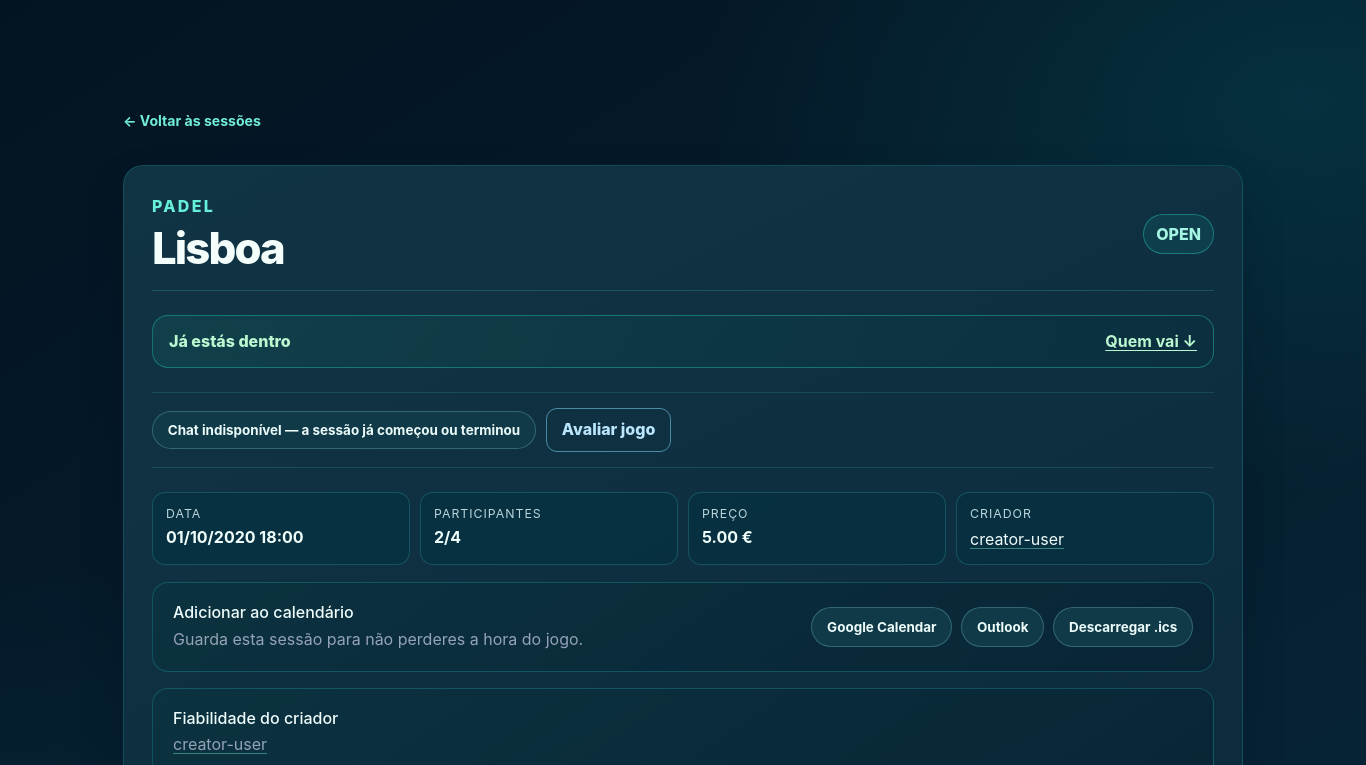
Test: SessionDetailsComponent › reopens a saved rating after not now was remembered on an earlier visit
Note: The explicit reopen must stay open even when GET finds a prior rating.
Click the button with class "rating-reopen-action" at (609, 430), box 546,408 -> 671,452
(page scrolled)
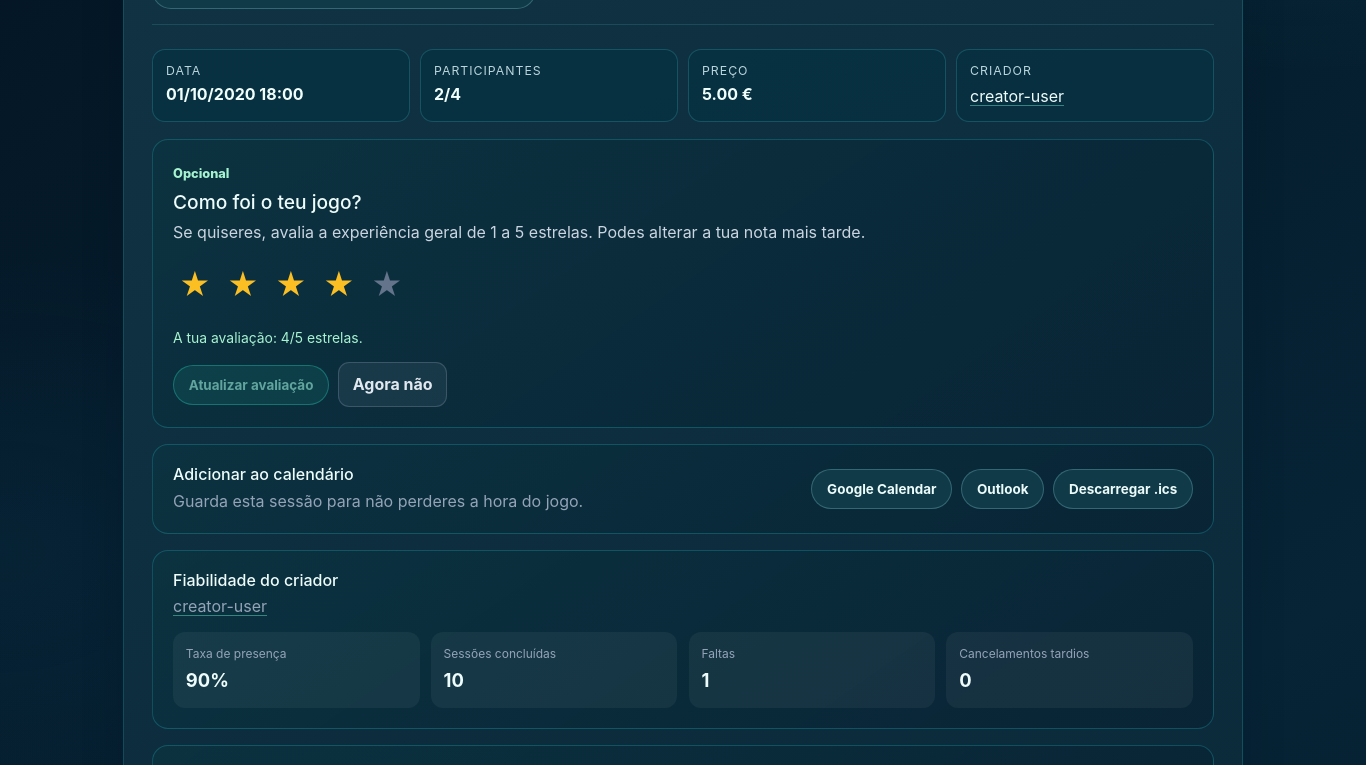
Expected: the element with class "overall-rating-panel" is shown, 152,139 -> 1214,428
Expected: the button "Atualizar avaliação" is disabled, 173,365 -> 329,405
